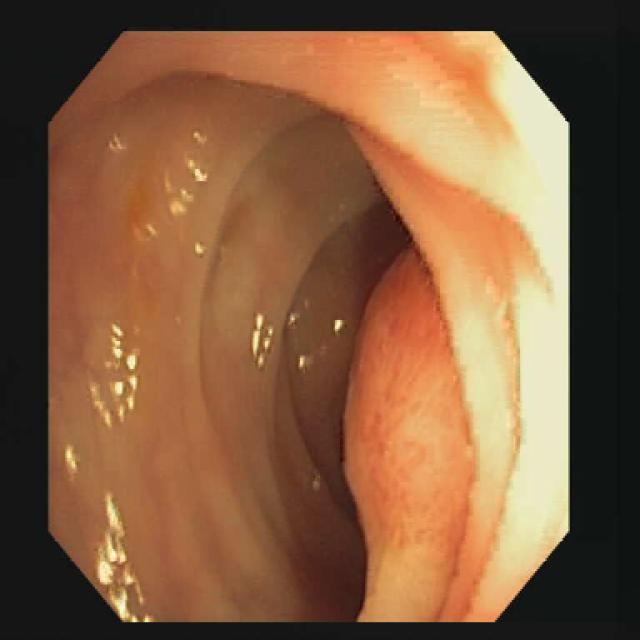tumor: (345, 247, 475, 620)
